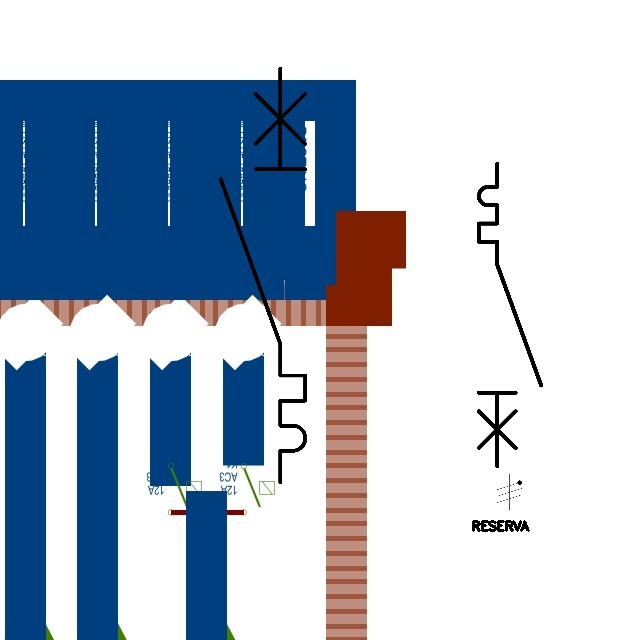interruptor_termomagnetico: (210, 58, 316, 493), (471, 156, 548, 474)
